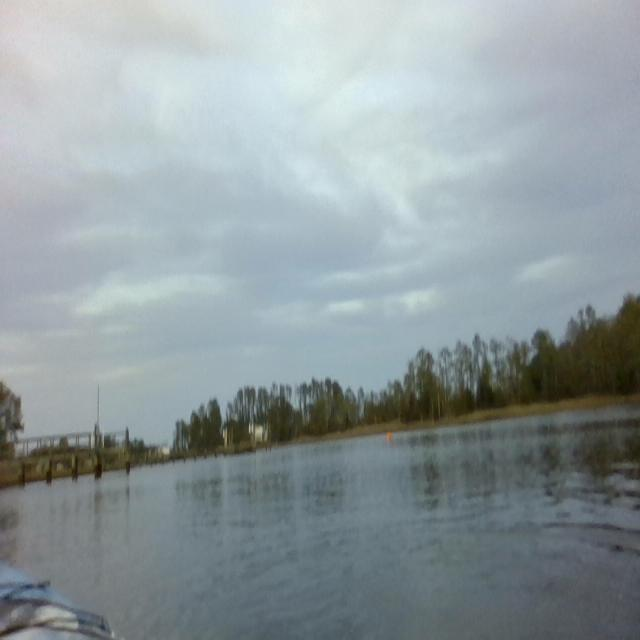Buoy: (386, 427, 392, 444)
